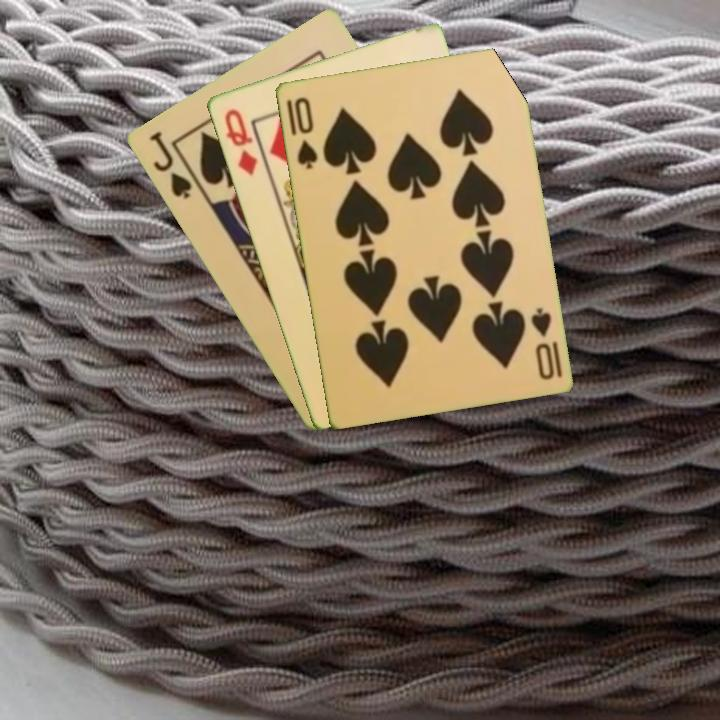10s: (527, 304, 565, 383), (290, 93, 320, 172)
Js: (145, 127, 194, 202)
Qd: (220, 105, 260, 178)
